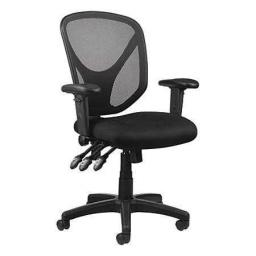Chair: (57, 11, 199, 240)
